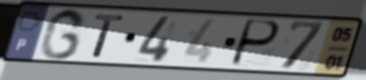4: (136, 15, 173, 65), (181, 17, 218, 66)
7: (279, 19, 328, 72)
G: (38, 7, 89, 62)
P: (227, 18, 283, 69)
T: (90, 12, 128, 60)
